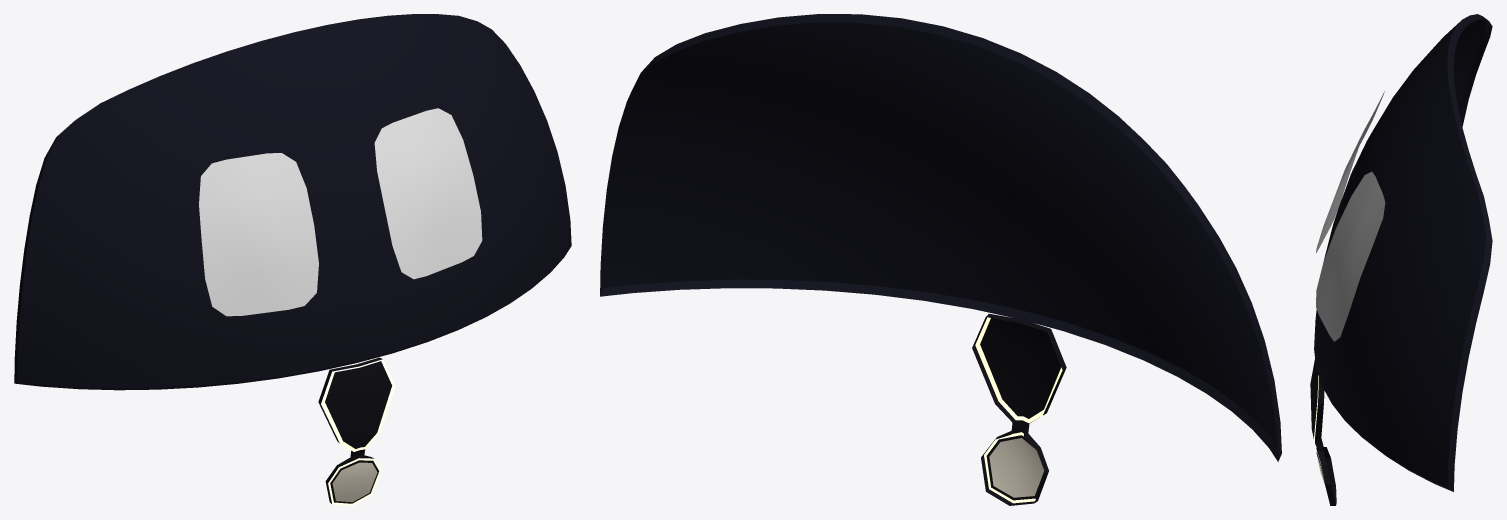
File: Animaçao_Bravo.fbx
The picture shows the model from 3 angles, left to right: view 1: azimuth 30°, elevation 25°; view 2: azimuth 150°, elevation 25°; view 3: azimuth 270°, elevation 25°; orthographic projection. The views are drawn at different scales.
Visible parts, largest first — view 1: Tela, Olhos; view 2: Tela; view 3: Tela, Olhos.
Boxes of the visible parts, x1=… form: Tela: x1=14, y1=14, x2=571, y2=505; Olhos: x1=199, y1=108, x2=482, y2=316; Tela: x1=600, y1=14, x2=1281, y2=505; Tela: x1=1310, y1=14, x2=1492, y2=505; Olhos: x1=1316, y1=91, x2=1385, y2=341.
Bounding box in the file's own units: 10.91 × 8.12 × 3.06.
